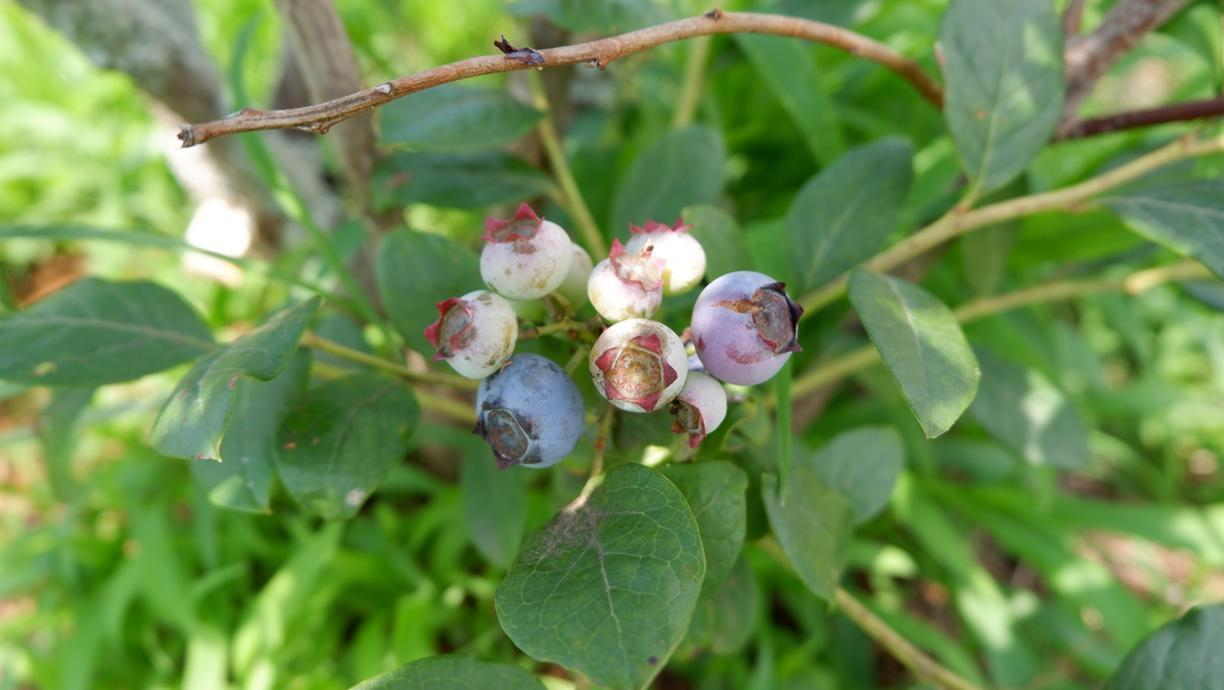Immature: (689, 270, 804, 385), (589, 318, 688, 414), (480, 202, 572, 301), (423, 289, 519, 381), (501, 242, 592, 323), (624, 218, 709, 295), (587, 239, 665, 322), (671, 371, 727, 448)
Mature: (472, 352, 583, 469)
